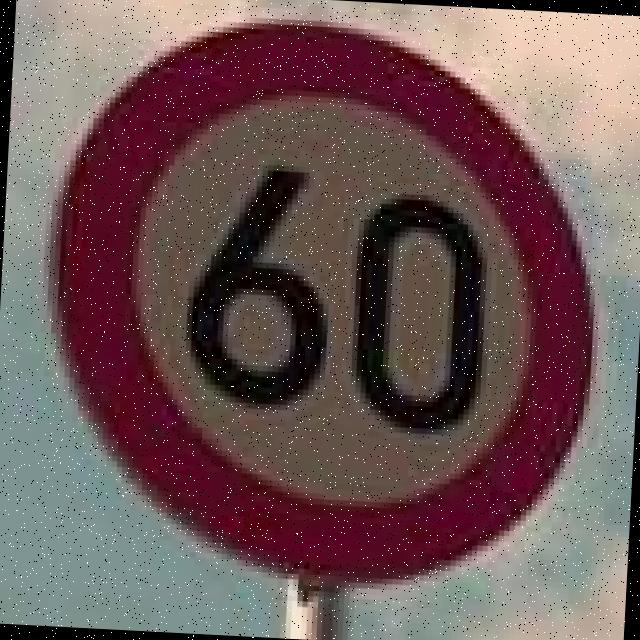Ograniczenie predkosci do 60: (34, 2, 604, 600)
